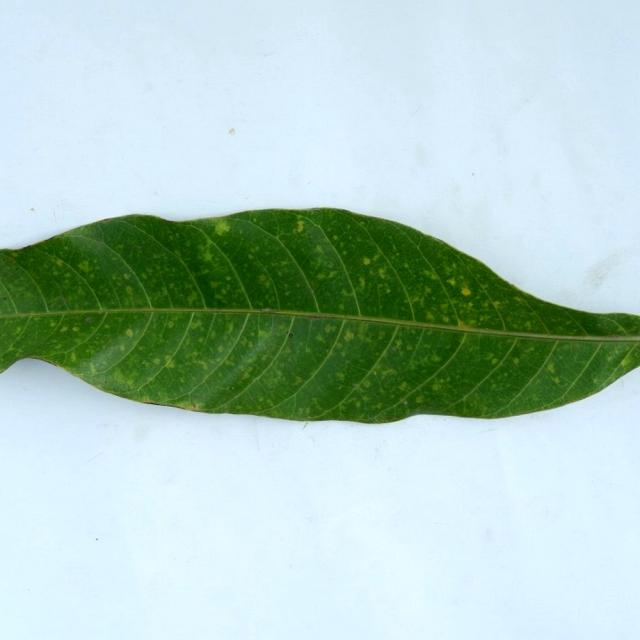Mango: (0, 209, 639, 422)
Powdery_Mildew: (615, 342, 640, 372), (211, 216, 233, 237), (315, 267, 337, 283), (5, 247, 21, 258), (457, 319, 473, 328), (217, 285, 228, 298), (78, 260, 89, 272), (382, 368, 396, 377), (202, 251, 213, 262), (295, 220, 304, 233), (344, 330, 354, 341), (258, 275, 269, 285), (191, 319, 202, 329), (372, 253, 383, 263), (546, 363, 556, 373), (315, 245, 325, 255), (447, 277, 458, 286), (308, 314, 324, 320), (461, 287, 471, 296), (258, 330, 268, 339), (410, 295, 420, 304), (125, 286, 134, 296), (324, 324, 334, 333), (429, 355, 440, 363), (432, 383, 443, 391), (261, 308, 278, 313), (166, 359, 175, 368), (378, 268, 387, 277), (352, 381, 361, 390), (357, 277, 365, 287), (327, 270, 337, 278), (399, 382, 409, 390), (190, 402, 200, 410), (609, 333, 624, 338), (362, 257, 371, 265), (125, 328, 133, 337), (164, 355, 172, 364), (429, 273, 438, 281), (415, 395, 424, 403), (423, 286, 432, 294), (426, 312, 435, 320), (492, 301, 502, 308), (141, 394, 151, 401), (56, 260, 64, 268), (242, 372, 250, 380), (342, 289, 350, 297), (122, 273, 131, 280), (210, 282, 219, 289), (294, 376, 303, 383), (553, 376, 561, 383), (153, 358, 161, 365), (491, 358, 499, 365), (442, 316, 450, 323), (363, 381, 371, 388), (337, 373, 345, 380), (60, 297, 67, 305), (85, 317, 94, 323), (168, 321, 175, 328), (116, 244, 123, 251), (354, 401, 361, 408), (70, 353, 76, 361), (72, 326, 80, 332), (332, 235, 339, 241), (403, 262, 410, 268), (218, 346, 224, 353), (60, 327, 68, 332), (513, 358, 519, 364), (225, 276, 231, 282), (2, 296, 8, 301)
